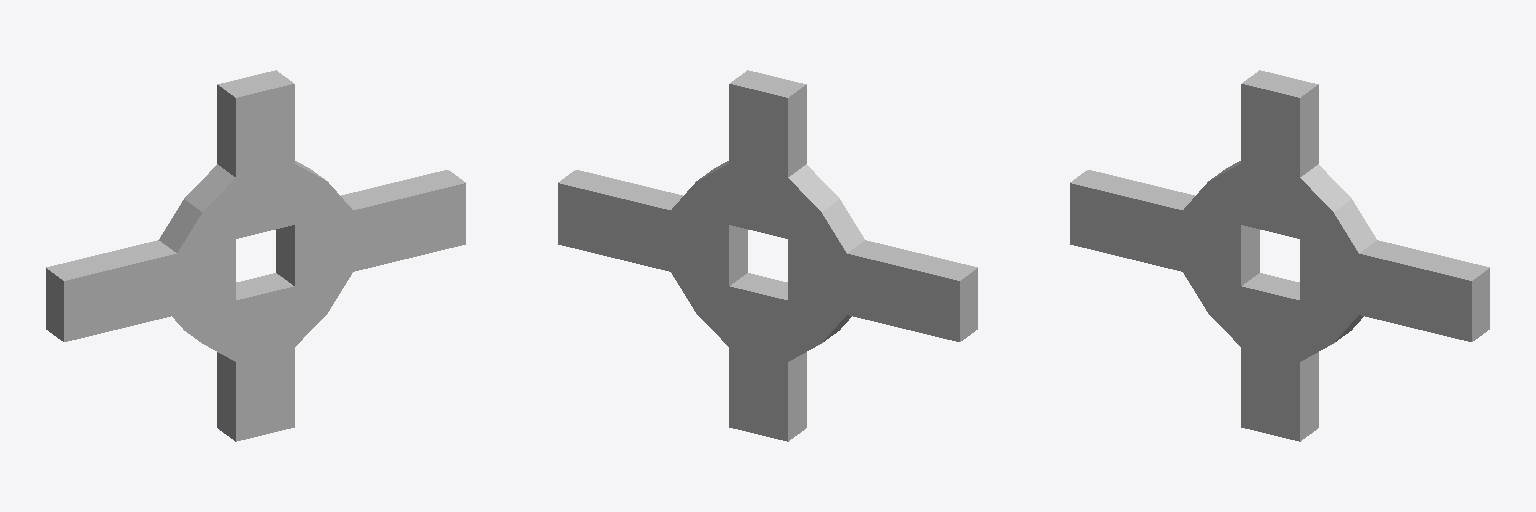
File: lock_mark.obj
3 views of the same model, side by side, from view 1: azimuth 30°, elevation 25°; view 2: azimuth 150°, elevation 25°; view 3: azimuth 330°, elevation 25° (orthographic).
Visible parts, largest first — view 1: pCube1; view 2: pCube1; view 3: pCube1.
Boxes of the visible parts, x1,y1,x2,y2 form: pCube1: [46, 70, 465, 441]; pCube1: [558, 70, 977, 441]; pCube1: [1070, 70, 1489, 441].
Bounding box in the file's own units: 2.28 × 1.87 × 0.1811.